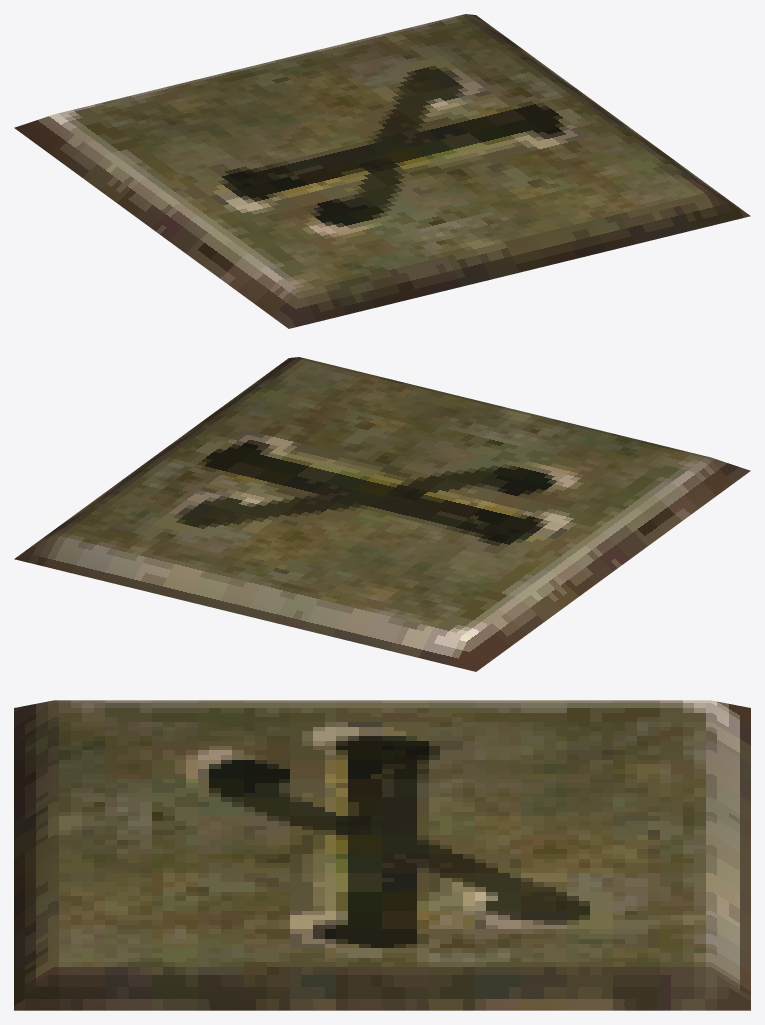
Rendered from EREBOR_RUNE_PZL_EREBOR_PZL_TILE_STATIC47.fbx.
3 renders of one model, top to bottom at view 1: azimuth 30°, elevation 25°; view 2: azimuth 150°, elevation 25°; view 3: azimuth 270°, elevation 25°, orthographic. The views are drawn at different scales.
Parts seen in each view (by area): view 1: EREBOR_RUNE_PZL_EREBOR_PZL_TILE_STATIC47; view 2: EREBOR_RUNE_PZL_EREBOR_PZL_TILE_STATIC47; view 3: EREBOR_RUNE_PZL_EREBOR_PZL_TILE_STATIC47.
Boxes of the visible parts, bbox=[...] form: EREBOR_RUNE_PZL_EREBOR_PZL_TILE_STATIC47: bbox=[14, 14, 750, 328]; EREBOR_RUNE_PZL_EREBOR_PZL_TILE_STATIC47: bbox=[14, 357, 750, 671]; EREBOR_RUNE_PZL_EREBOR_PZL_TILE_STATIC47: bbox=[14, 700, 750, 1010].
Bounding box in the file's own units: 9945 × 370 × 10241.
Materials: 1 (1 with a texture image).
